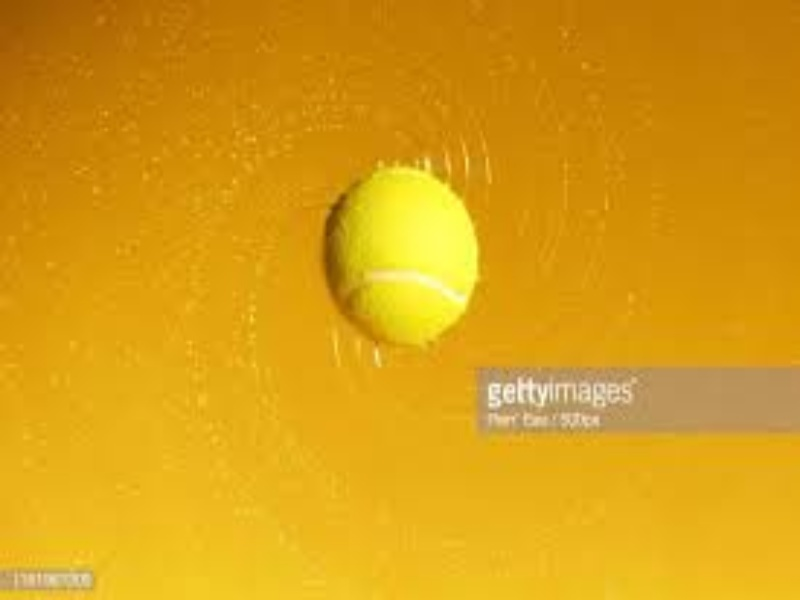tennis ball: (311, 152, 497, 374)
